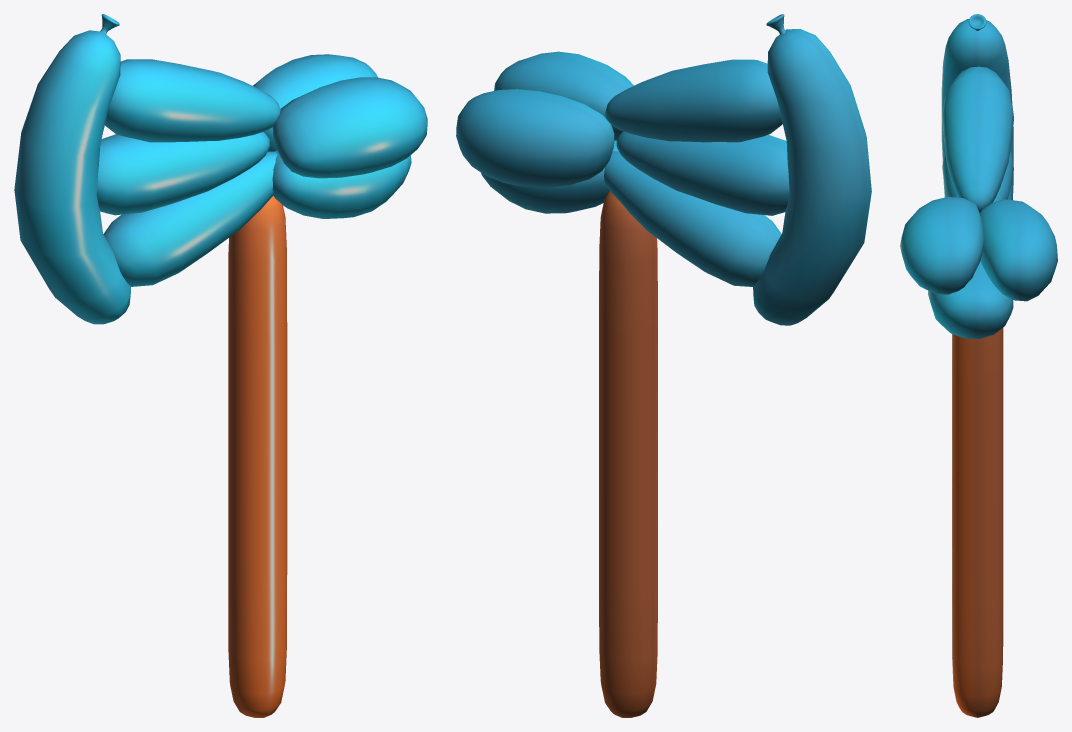
The model's file is bua.fbx.
3 renders of one model, left to right at view 1: azimuth 30°, elevation 25°; view 2: azimuth 150°, elevation 25°; view 3: azimuth 270°, elevation 25°, orthographic. The views are drawn at different scales.
Visible parts, largest first — view 1: tay.003, Cylinder, tay.004, tay.002; view 2: tay.003, Cylinder, tay.004, tay.002; view 3: Cylinder, tay.002, tay.003, tay.004.
Part boxes in pixels (bbox=[...]): tay.003: bbox=[96, 59, 280, 286]; Cylinder: bbox=[228, 196, 287, 717]; tay.004: bbox=[14, 30, 130, 324]; tay.002: bbox=[253, 54, 427, 218]; tay.003: bbox=[604, 59, 789, 286]; Cylinder: bbox=[599, 191, 657, 717]; tay.004: bbox=[753, 29, 871, 325]; tay.002: bbox=[456, 51, 633, 213]; Cylinder: bbox=[952, 328, 1003, 717]; tay.002: bbox=[900, 196, 1057, 338]; tay.003: bbox=[942, 66, 1013, 212]; tay.004: bbox=[941, 19, 1013, 199].
Size of the model in its own units: 234 by 427 by 96.11.
1 material, 1 textured.
